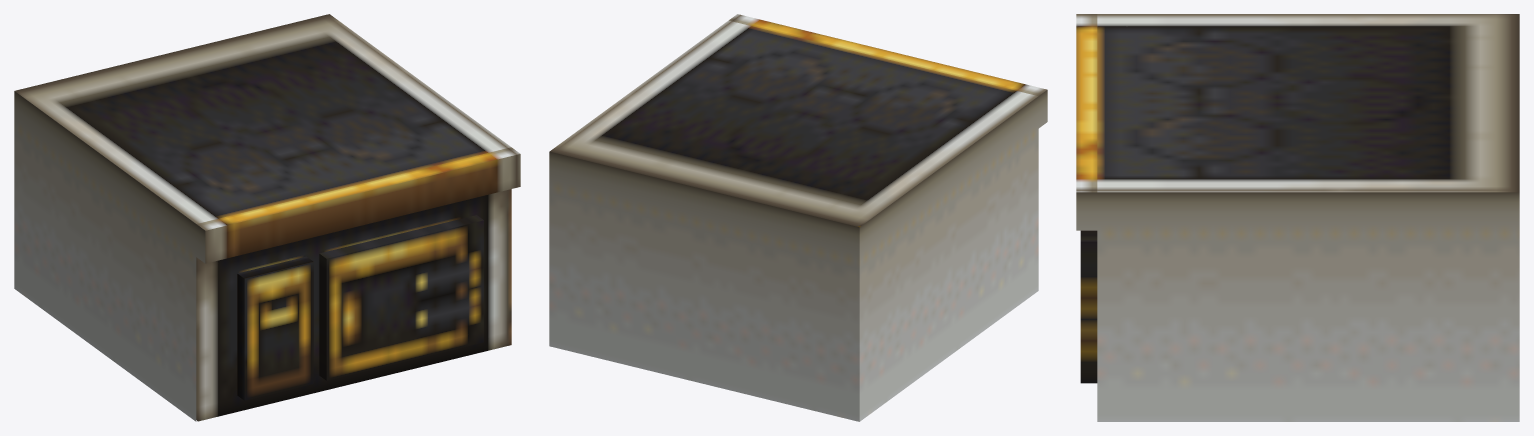
Rendered from Inside_Poly_Kitchen_Table_01.obj.
3 views of the same model, side by side, from view 1: azimuth 30°, elevation 25°; view 2: azimuth 150°, elevation 25°; view 3: azimuth 270°, elevation 25° (orthographic). The views are drawn at different scales.
Parts seen in each view (by area): view 1: Cube; view 2: Cube; view 3: Cube.
Part boxes in pixels (x1,y1,x2,y2): Cube: (14, 14, 520, 421); Cube: (549, 14, 1047, 421); Cube: (1076, 14, 1519, 421).
Bounding box in the file's own units: 1 × 0.6 × 1.05.
Materials: 1 (1 with a texture image).
